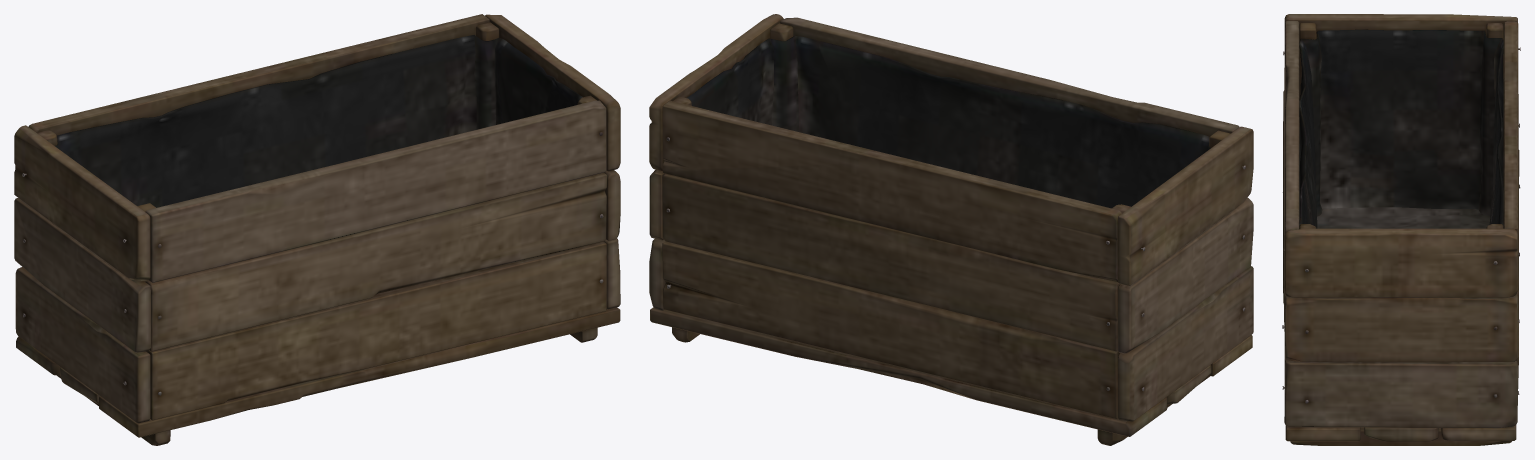
The model's file is planter_box.glb.
The picture shows the model from 3 angles, left to right: view 1: azimuth 30°, elevation 25°; view 2: azimuth 150°, elevation 25°; view 3: azimuth 270°, elevation 25°; orthographic projection. The views are drawn at different scales.
Parts seen in each view (by area): view 1: planter_box_01; view 2: planter_box_01; view 3: planter_box_01.
Boxes of the visible parts, box(x1,y1,x2,y2) form: planter_box_01: box(14, 14, 620, 445); planter_box_01: box(649, 14, 1253, 445); planter_box_01: box(1282, 14, 1520, 445).
Size of the model in its own units: 0.9126 by 0.425 by 0.4137.
1 material, 1 textured.
